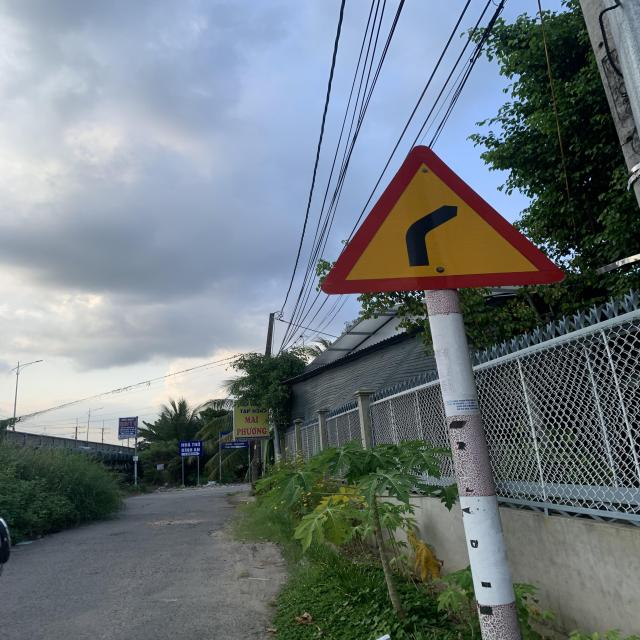Duong_Nguoi_Di_Bo_Cat_Ngang: (329, 142, 559, 286)
